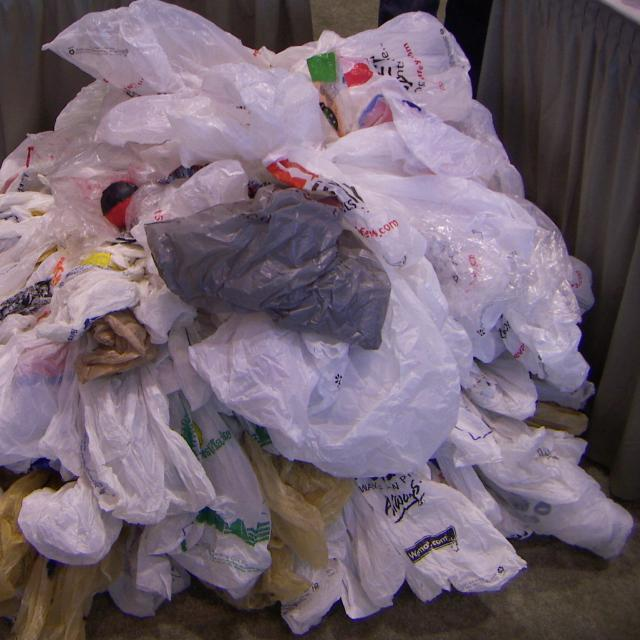Single-layer Plastic: (190, 268, 460, 478), (354, 172, 589, 390), (19, 338, 215, 565), (145, 186, 391, 349), (281, 474, 526, 634), (109, 391, 271, 618), (0, 242, 145, 469), (435, 395, 632, 559), (96, 62, 330, 166), (218, 432, 354, 609), (44, 0, 264, 95), (321, 78, 489, 179), (332, 11, 472, 121), (49, 144, 156, 254)
